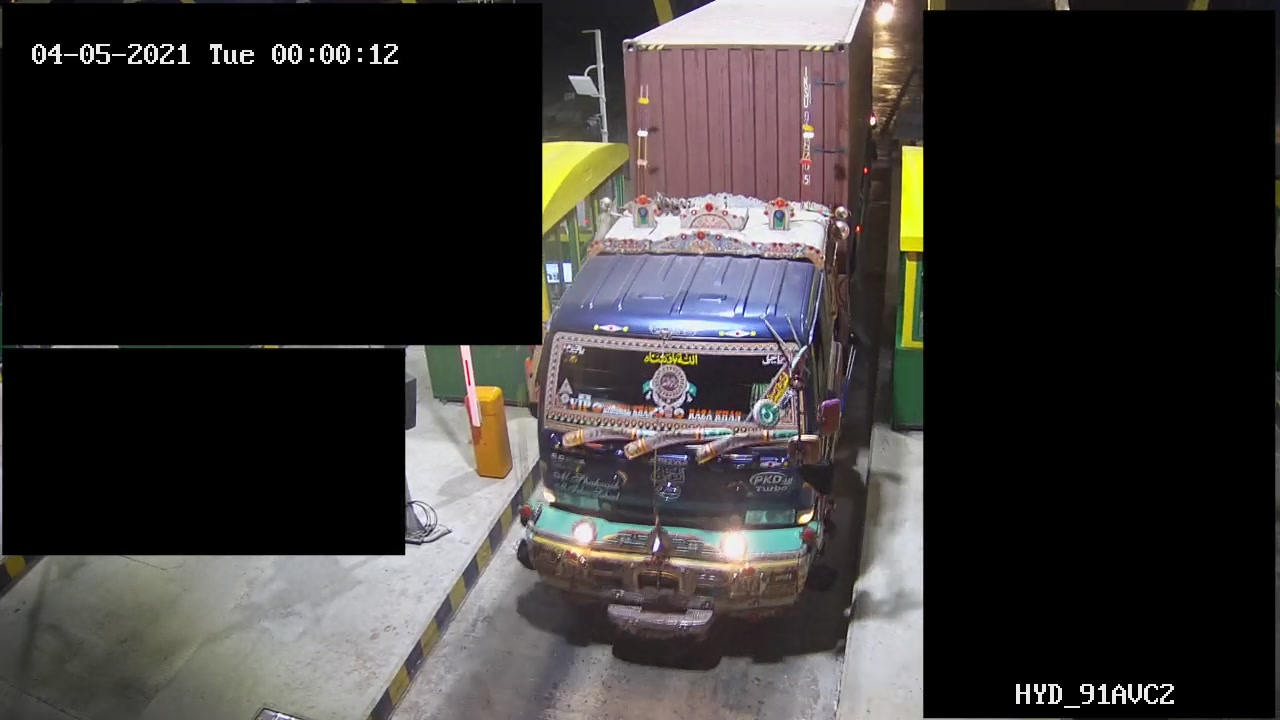F6: (508, 1, 906, 662)
